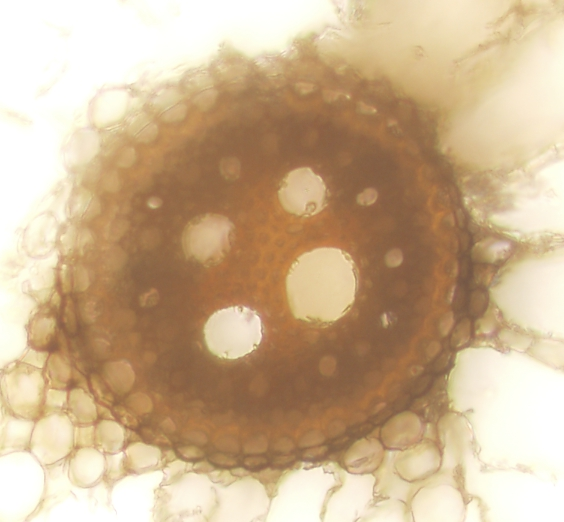lm: (285, 247, 357, 327), (202, 305, 262, 359), (181, 212, 234, 268), (276, 166, 328, 216)
